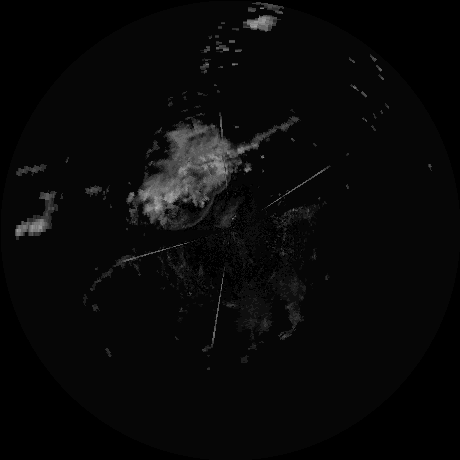frontgust: (157, 179, 228, 231)
